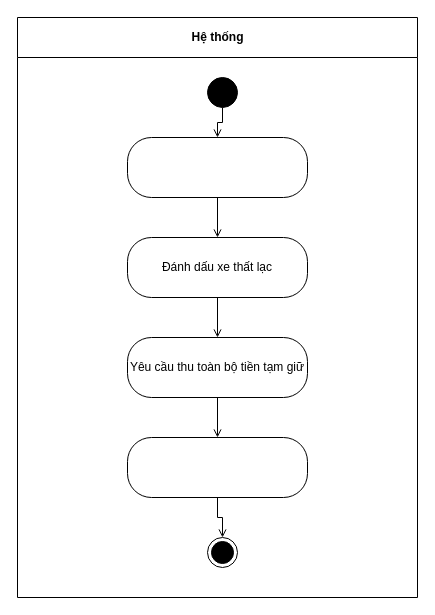
Some shapes in this 435 by 615 pixel diagram are drawn without their labels. The centre of each missing label's shape, as x and y in pixels:
"Khoá tài khoản người thuê xe" belongs at [217,467].
"Tới khi chuyến đi quá 24 giờ" belongs at [217,167].
